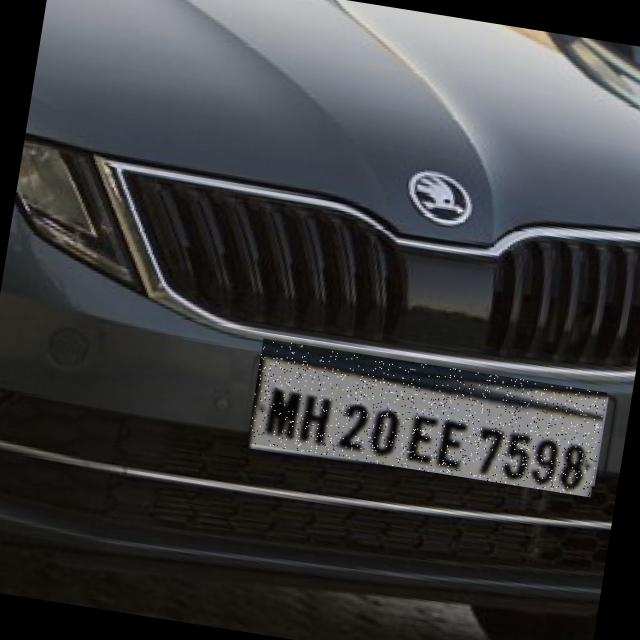Plate: (248, 340, 608, 499)
